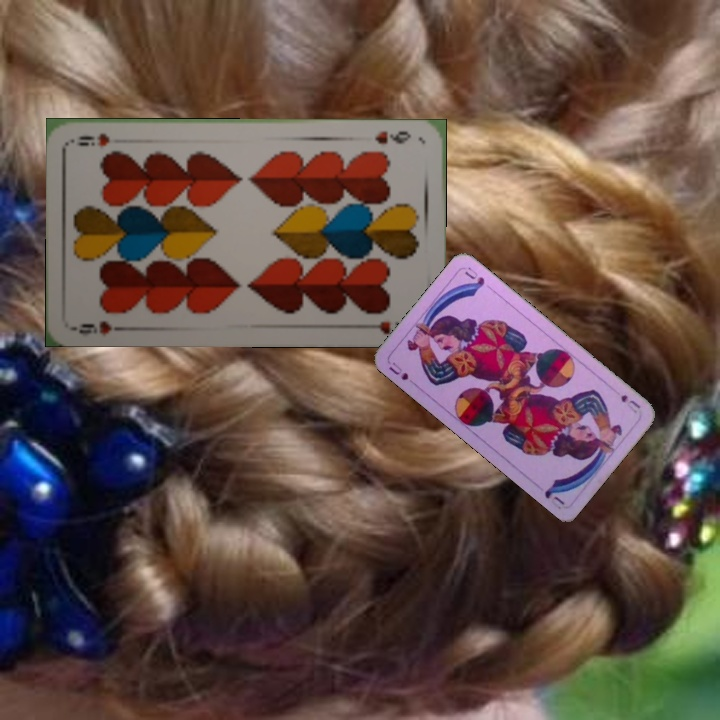H9: (70, 317, 129, 338), (371, 127, 414, 147)
SU: (385, 358, 419, 387), (616, 390, 643, 416)
